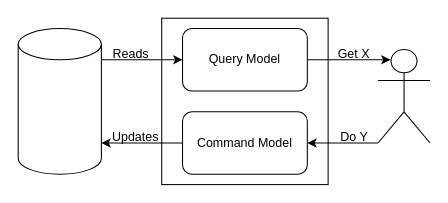
Image size: 448x203. Some labels were removed from this diagram. The centre of each missing label's shape, as x and y in pixels:
Client: (x=403, y=95)
Database: (x=59, y=101)
